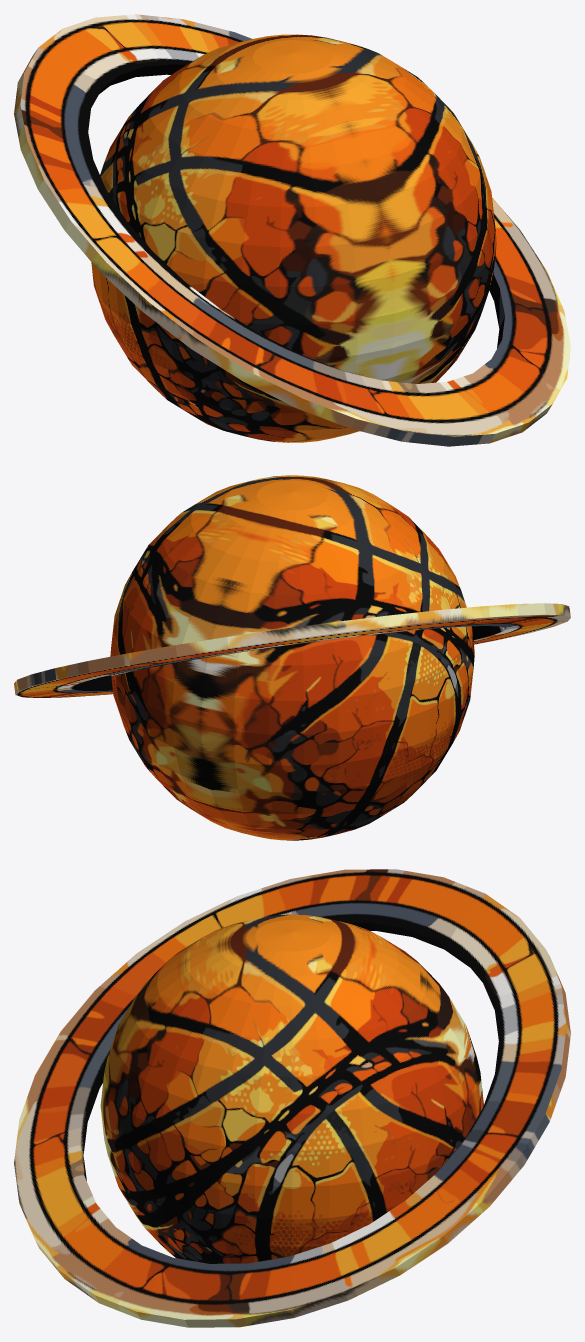
Rendered from basketball.glb.
The picture shows the model from 3 angles, top to bottom: view 1: azimuth 30°, elevation 25°; view 2: azimuth 150°, elevation 25°; view 3: azimuth 270°, elevation 25°; orthographic projection. The views are drawn at different scales.
Parts seen in each view (by area): view 1: Sphere, Cylinder; view 2: Sphere, Cylinder; view 3: Sphere, Cylinder.
Part boxes in pixels (left/top/right/bottom): Sphere: left=91, top=34, right=496, bottom=442; Cylinder: left=14, top=14, right=570, bottom=446; Sphere: left=110, top=475, right=474, bottom=840; Cylinder: left=14, top=603, right=570, bottom=697; Sphere: left=100, top=914, right=483, bottom=1263; Cylinder: left=14, top=869, right=570, bottom=1327.
Size of the model in its own units: 4.62 by 3.2 by 4.65.
1 material, 1 textured.
